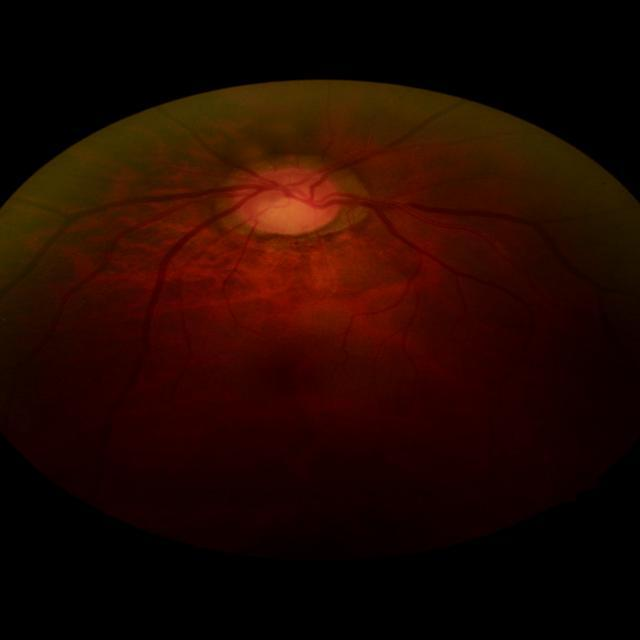cup: (255, 187, 321, 224)
disk: (232, 166, 340, 234)
